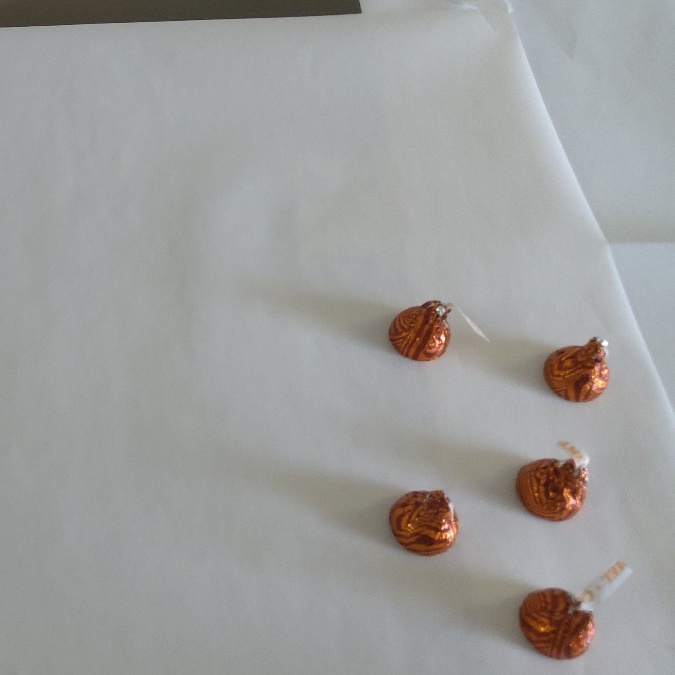chocolate_gold: (517, 580, 598, 661), (388, 296, 452, 364), (546, 336, 610, 404), (518, 452, 582, 520), (394, 488, 458, 556)
